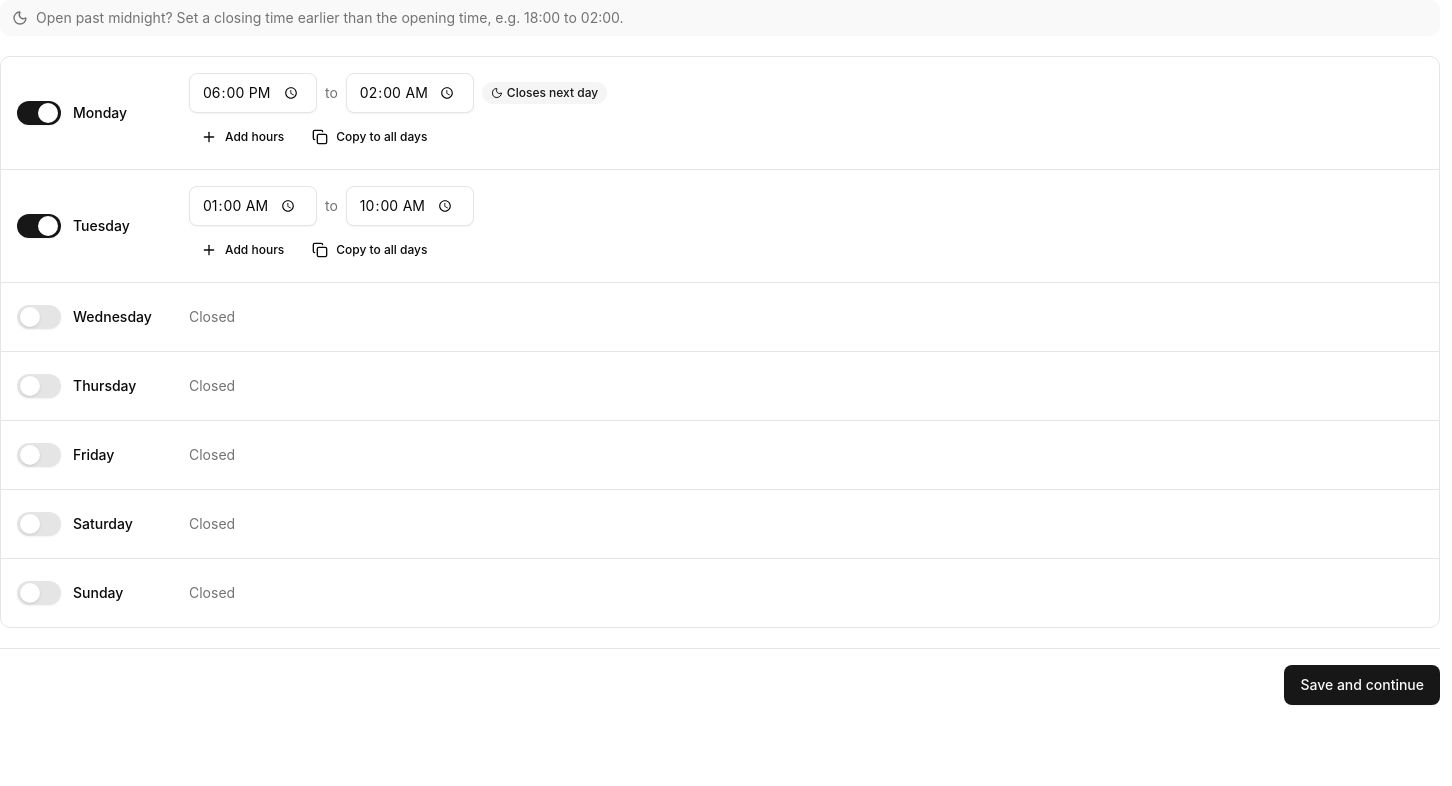
it: OpeningHoursForm › rejects hours that overlap the previous night
Expected: the text "Closes next day" is shown, [482,82,607,104]
Click the button "Save and continue". click: click(1362, 685)
box: [1284,665,1440,705]
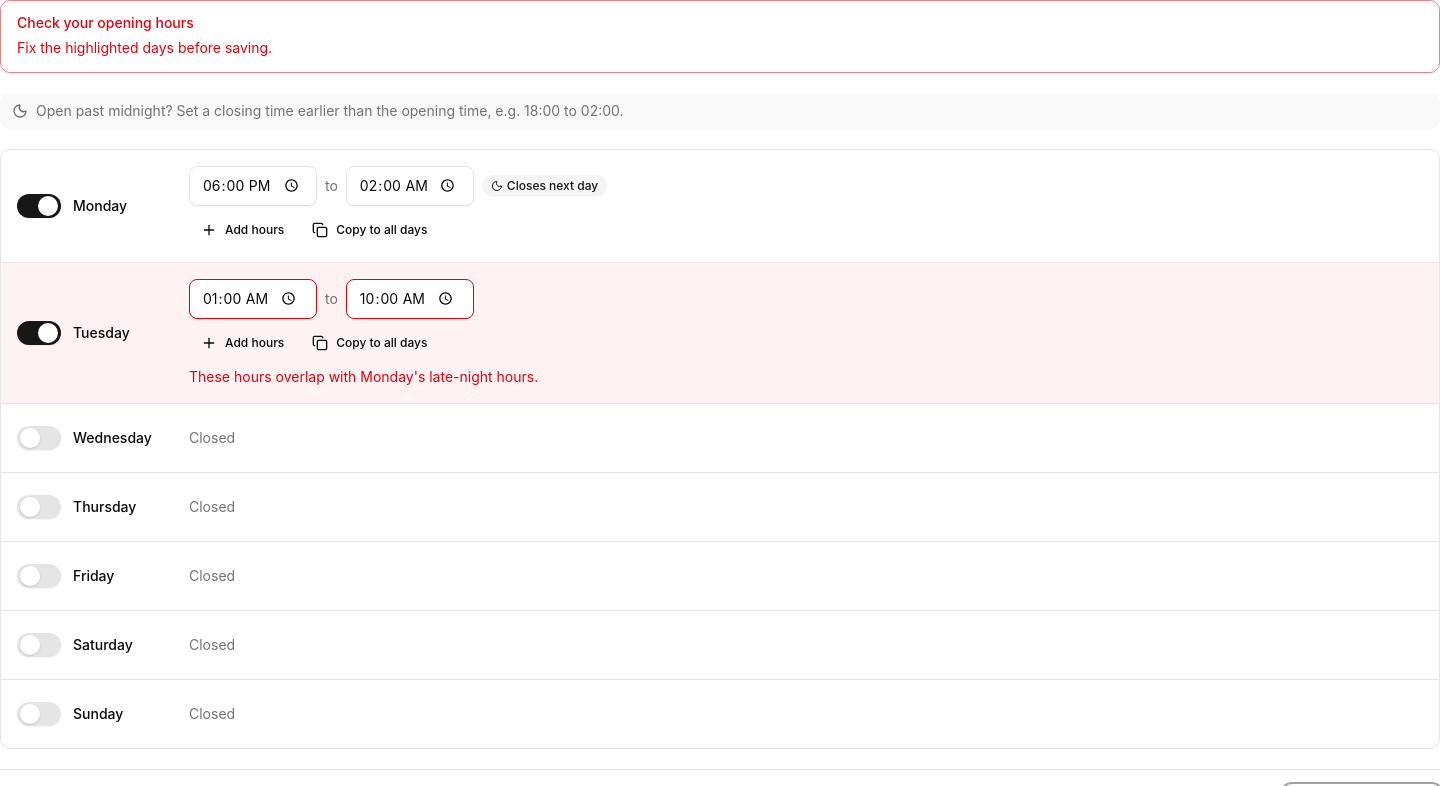
Now the text "These hours overlap with Monday's late-night hours." is shown, box [189,368,538,385]
